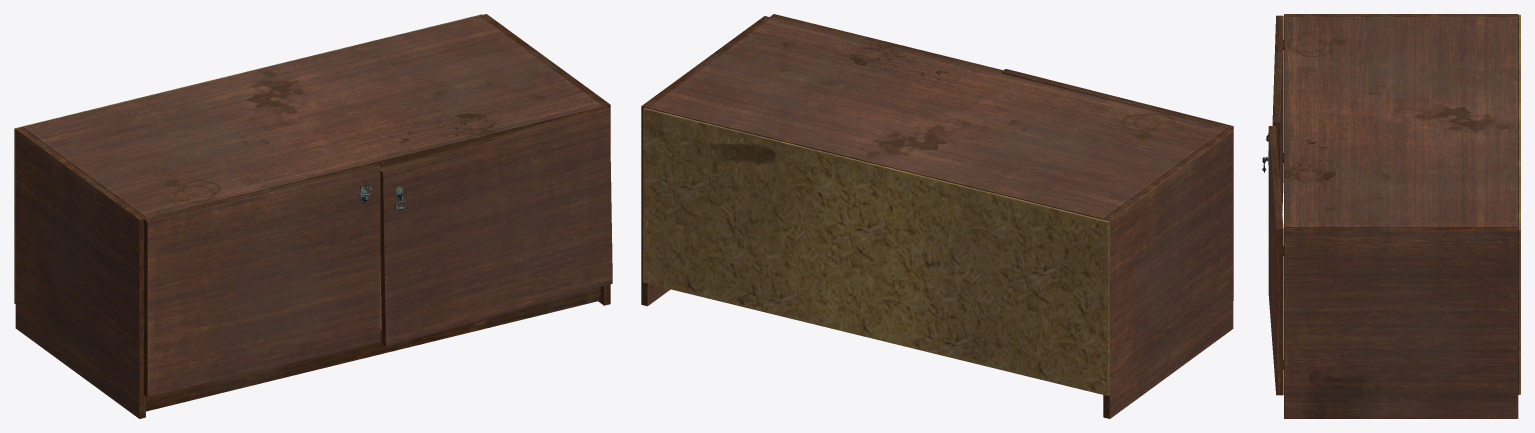
File: sov_cupboard_small.fbx
3 renders of one model, left to right at view 1: azimuth 30°, elevation 25°; view 2: azimuth 150°, elevation 25°; view 3: azimuth 270°, elevation 25°, orthographic. The views are drawn at different scales.
Parts seen in each view (by area): view 1: Cupboard_small.001, Cupboard_small.003, Cupboard_small.002; view 2: Cupboard_small.001, Cupboard_small.003, Cupboard_small.002; view 3: Cupboard_small.001, Cupboard_small.002, Cupboard_small.003.
Part boxes in pixels (x1,y1,x2,y2): Cupboard_small.001: (14, 14, 610, 418); Cupboard_small.003: (144, 164, 380, 396); Cupboard_small.002: (380, 106, 612, 346); Cupboard_small.001: (641, 16, 1233, 418); Cupboard_small.003: (1002, 69, 1233, 300); Cupboard_small.002: (770, 14, 1002, 73); Cupboard_small.001: (1284, 14, 1520, 418); Cupboard_small.002: (1262, 126, 1283, 395); Cupboard_small.003: (1266, 15, 1283, 213).
Bounding box in the file's own units: 228 × 92.46 × 115.
